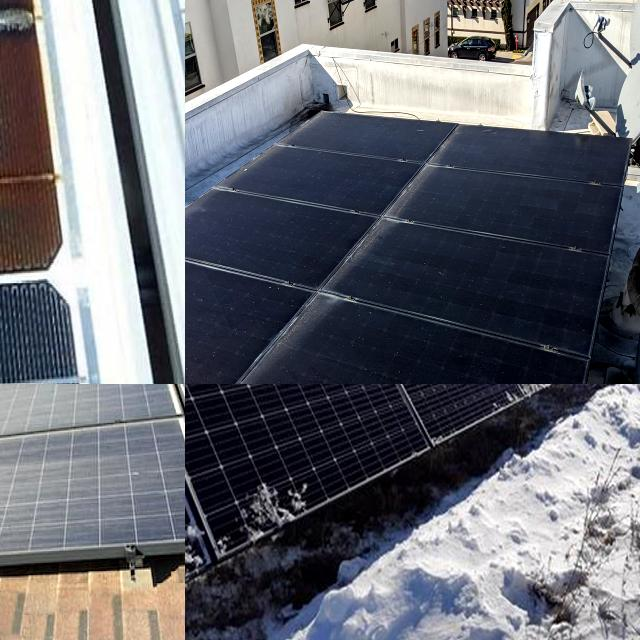dust: (0, 432, 169, 537), (327, 327, 526, 384), (396, 247, 573, 305), (0, 468, 108, 546), (198, 208, 327, 260), (442, 185, 594, 228), (185, 277, 263, 341), (0, 384, 167, 410), (262, 156, 375, 192), (1, 384, 142, 404), (0, 396, 68, 437), (31, 384, 134, 401), (141, 384, 185, 417), (0, 384, 56, 395), (0, 384, 28, 402), (0, 384, 53, 391)
panel: (185, 471, 301, 603), (185, 384, 344, 410), (489, 384, 608, 412), (359, 384, 469, 400), (477, 384, 557, 400), (576, 384, 623, 401), (536, 384, 584, 399), (615, 384, 640, 405)
shadow: (0, 0, 108, 291)
